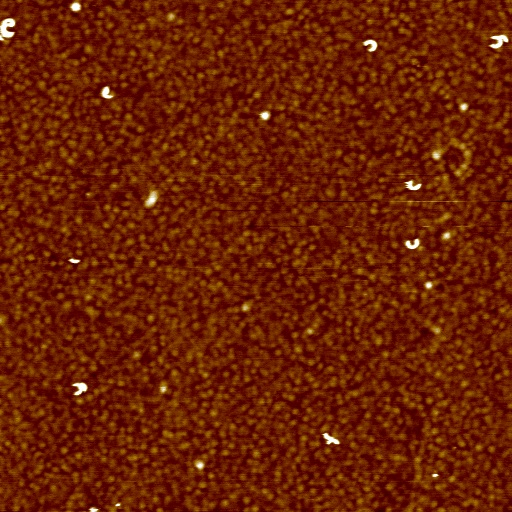-1: (142, 186, 161, 212), (320, 430, 342, 449), (67, 1, 81, 14), (258, 109, 269, 122), (192, 459, 205, 470), (68, 256, 80, 265), (430, 470, 440, 480)
1/4: (97, 84, 117, 101)
2/4: (487, 32, 509, 49), (70, 381, 88, 397), (361, 38, 378, 53), (405, 179, 422, 192), (403, 239, 422, 249)
3/4: (1, 17, 18, 39)
